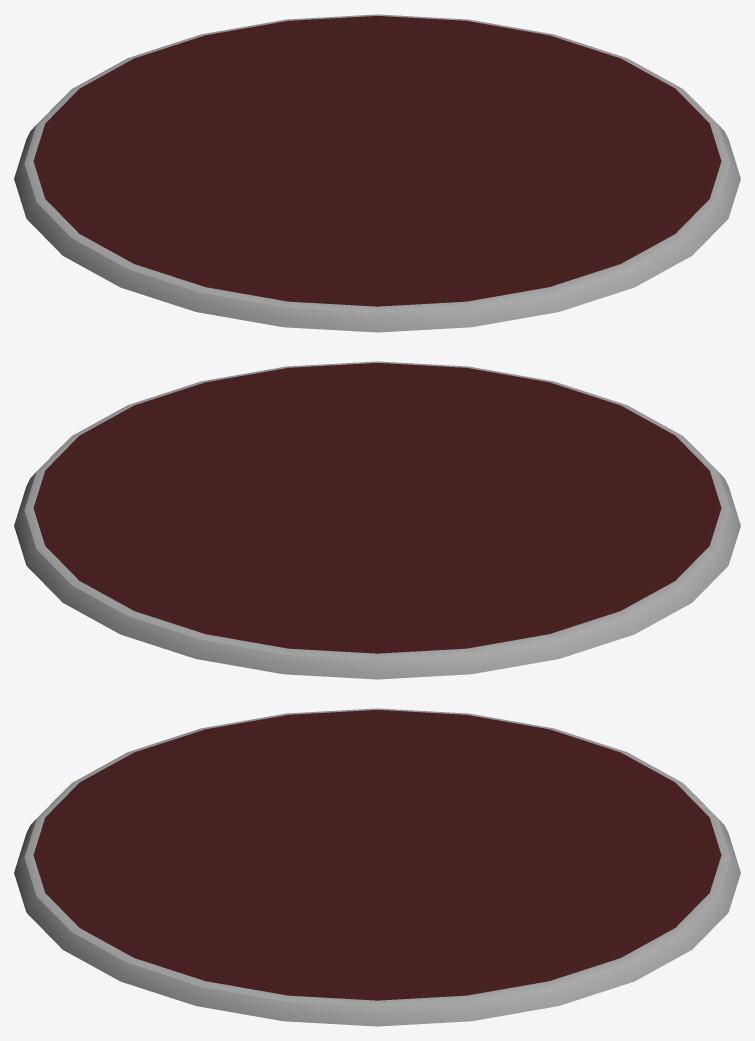
Rendered from CircleRug.fbx.
3 renders of one model, top to bottom at view 1: azimuth 30°, elevation 25°; view 2: azimuth 150°, elevation 25°; view 3: azimuth 270°, elevation 25°, orthographic.
Parts seen in each view (by area): view 1: pDisc1; view 2: pDisc1; view 3: pDisc1.
Boxes of the visible parts, left/top/right/bottom form: pDisc1: left=14, top=14, right=740, bottom=332; pDisc1: left=14, top=361, right=740, bottom=679; pDisc1: left=14, top=708, right=740, bottom=1026.
Bounding box in the file's own units: 2.05 × 0.055 × 2.05.
